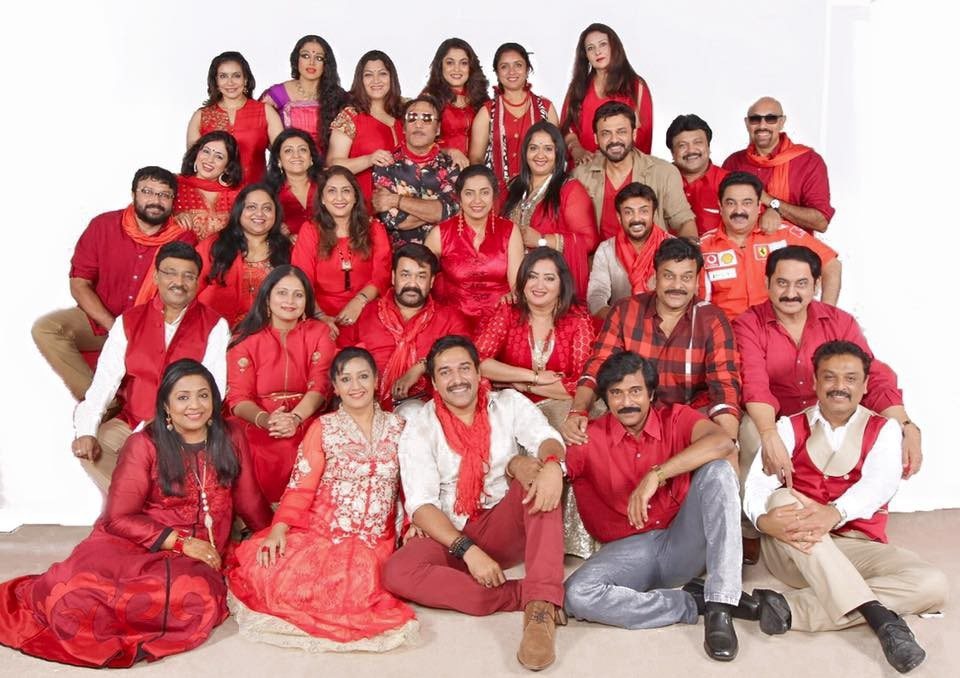bad: (815, 360, 867, 412), (655, 266, 698, 310), (770, 271, 813, 314), (717, 190, 760, 233), (434, 358, 477, 401), (333, 367, 376, 410), (156, 262, 199, 305), (170, 382, 213, 425), (607, 377, 650, 420), (457, 182, 493, 218), (521, 138, 557, 174), (617, 202, 653, 238), (241, 194, 277, 230), (393, 266, 429, 302), (597, 122, 633, 158), (321, 182, 357, 218), (189, 142, 225, 178), (493, 54, 529, 90), (521, 266, 557, 302), (437, 54, 473, 90), (401, 106, 437, 142), (673, 134, 709, 170), (293, 46, 329, 82), (357, 62, 393, 98), (269, 282, 305, 318), (137, 182, 173, 218), (745, 110, 781, 146), (277, 138, 313, 174), (581, 34, 617, 70), (213, 66, 249, 102)
